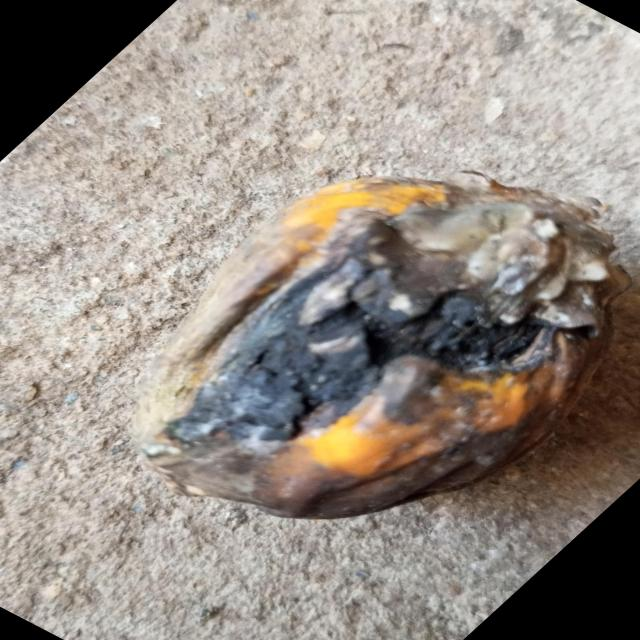damaged: (132, 172, 630, 518)
